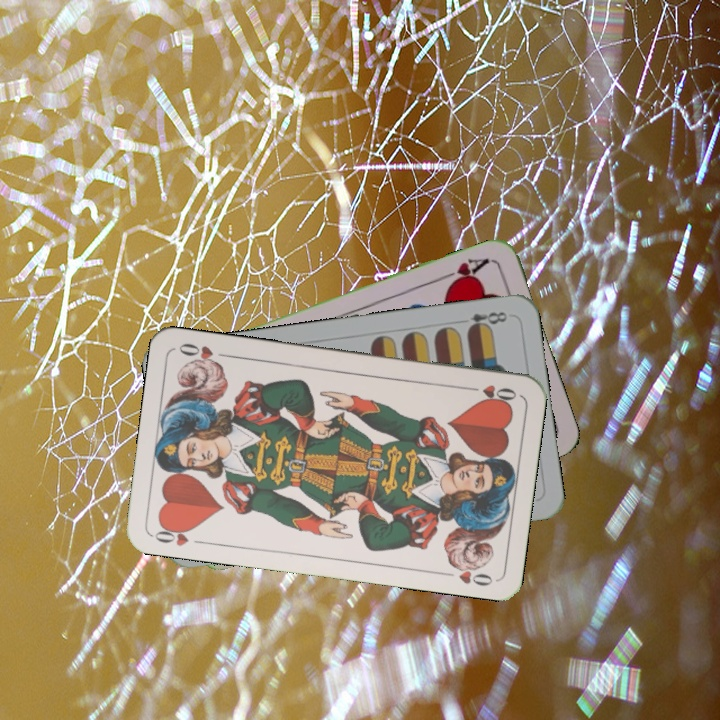E8: (454, 307, 510, 334)
HA: (436, 253, 492, 290)
HO: (149, 520, 208, 549), (462, 380, 519, 406)
